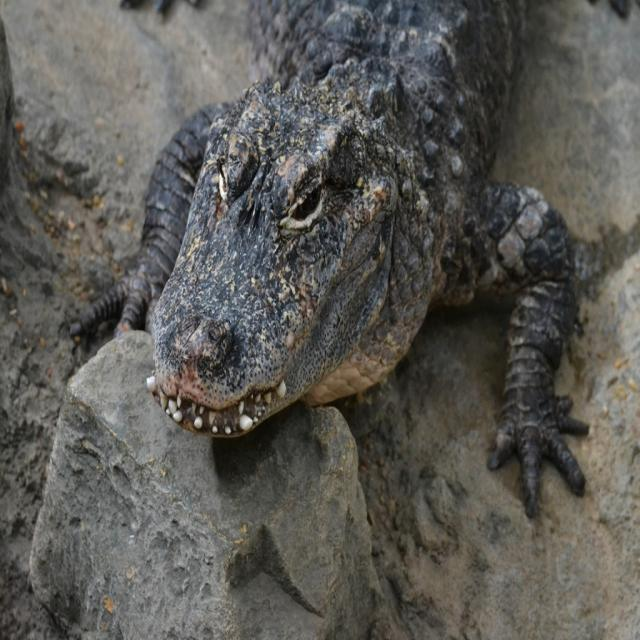crocodile: (66, 0, 603, 516)
